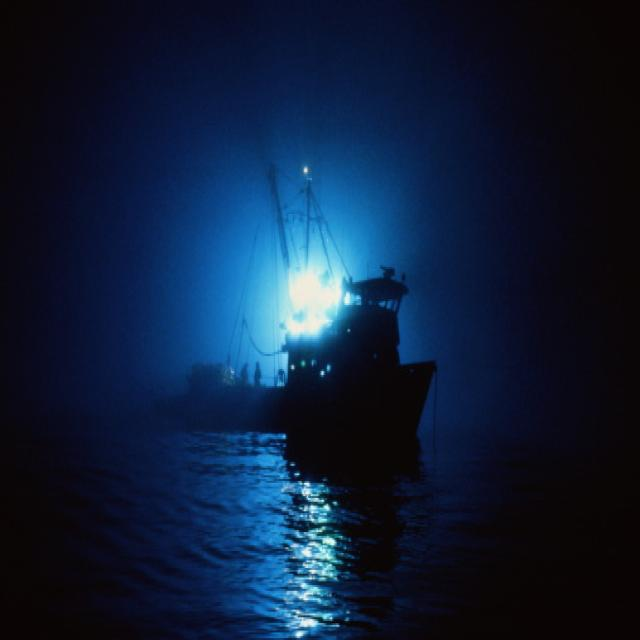Boat: (265, 184, 435, 516), (118, 357, 420, 441)
